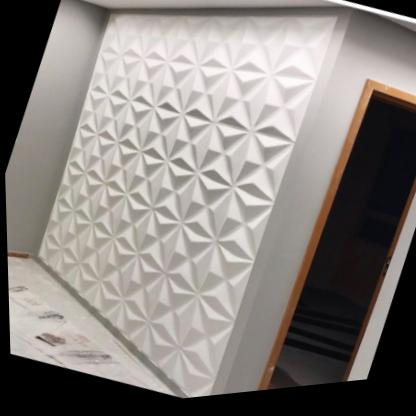Futech tiles: (48, 25, 319, 340)
